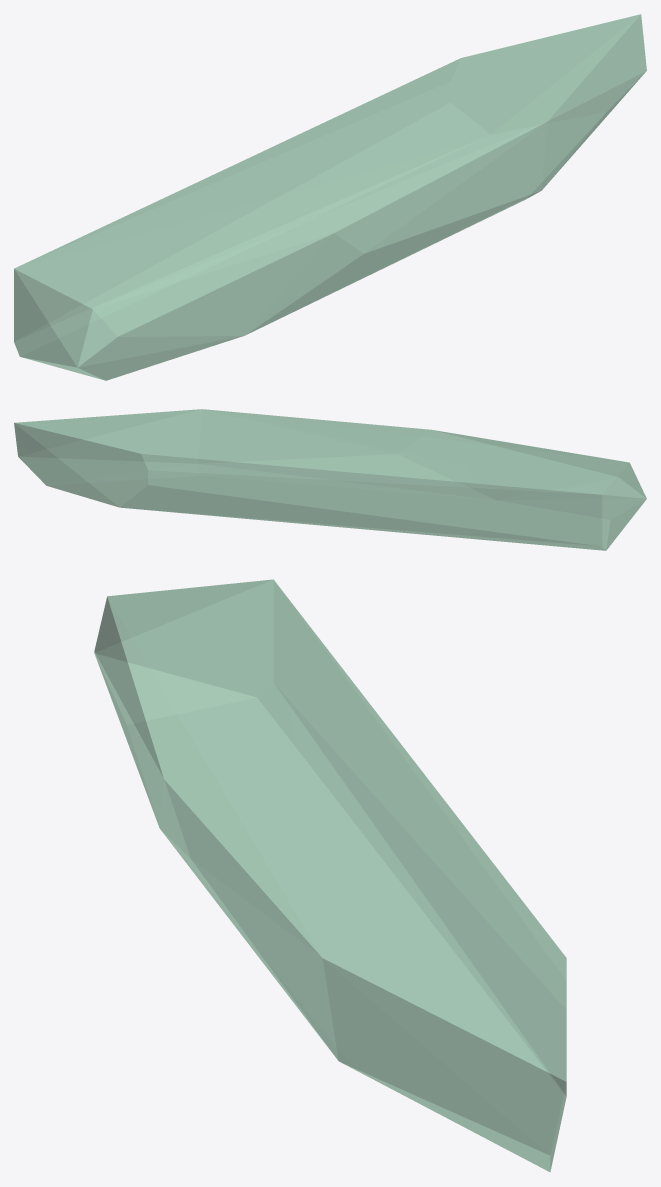
3 views of the same model, one above another, from view 1: azimuth 30°, elevation 25°; view 2: azimuth 150°, elevation 25°; view 3: azimuth 270°, elevation 25° (orthographic). The views are drawn at different scales.
Visible parts, largest first — view 1: Shape_IndexedFaceSet.018_Shape_IndexedFaceSet.3179; view 2: Shape_IndexedFaceSet.018_Shape_IndexedFaceSet.3179; view 3: Shape_IndexedFaceSet.018_Shape_IndexedFaceSet.3179.
Boxes of the visible parts, left/top/right/bottom form: Shape_IndexedFaceSet.018_Shape_IndexedFaceSet.3179: left=14, top=14, right=646, bottom=380; Shape_IndexedFaceSet.018_Shape_IndexedFaceSet.3179: left=14, top=409, right=646, bottom=550; Shape_IndexedFaceSet.018_Shape_IndexedFaceSet.3179: left=94, top=579, right=566, bottom=1171.
Size of the model in its own units: 0.3388 by 0.0371 by 0.1346.
